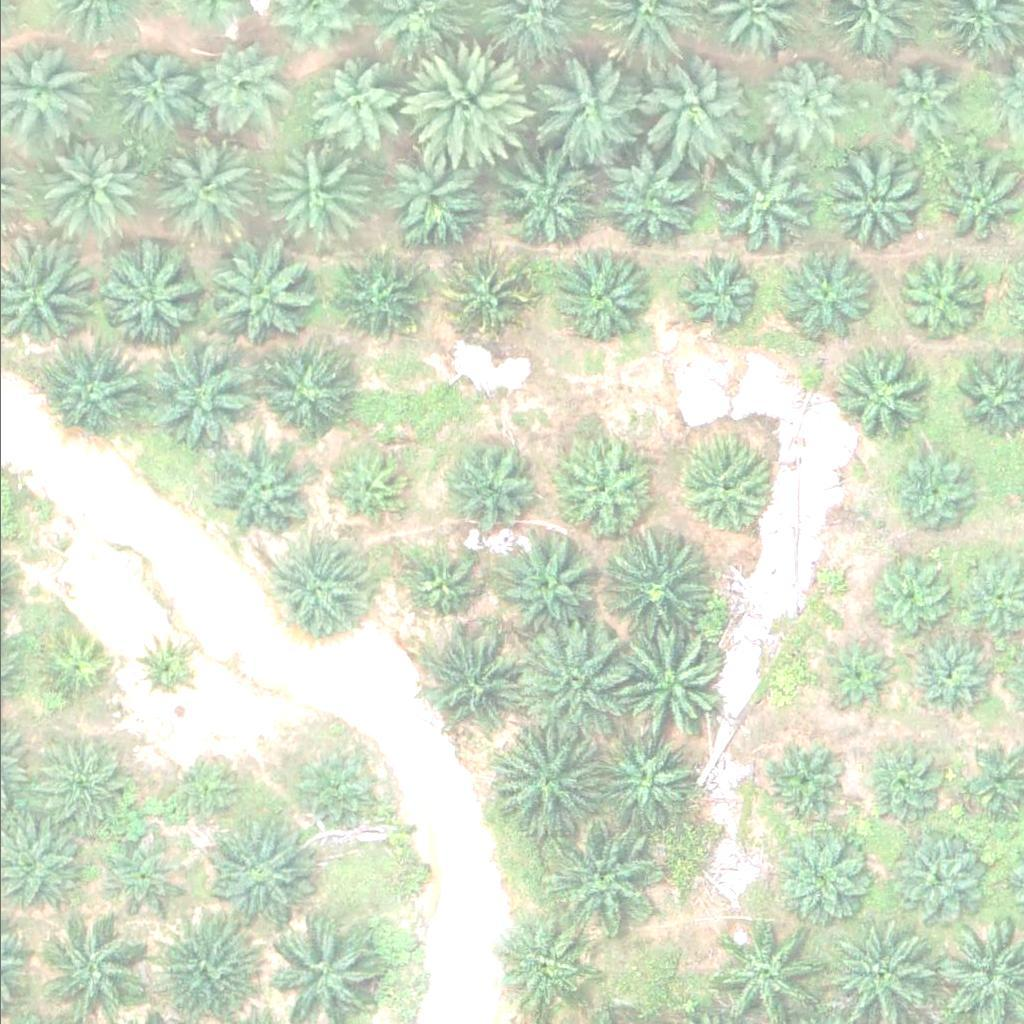Kelapa_Sawit: (401, 47, 527, 172), (489, 721, 603, 834), (535, 49, 649, 162), (199, 812, 312, 925), (148, 338, 261, 451), (204, 239, 317, 352), (93, 243, 206, 356), (594, 528, 707, 641), (705, 143, 818, 256), (630, 56, 743, 169), (819, 149, 933, 261), (144, 908, 257, 1020), (548, 821, 661, 933), (515, 629, 628, 741), (611, 628, 724, 740), (497, 529, 598, 629), (39, 337, 140, 437), (555, 249, 656, 349), (496, 156, 597, 256), (259, 142, 360, 242), (147, 137, 248, 237), (39, 133, 140, 233), (877, 827, 978, 927), (596, 728, 697, 828), (825, 344, 926, 444), (488, 917, 588, 1017), (423, 627, 523, 727), (263, 537, 363, 637), (30, 735, 130, 835), (555, 440, 655, 540), (210, 443, 310, 543), (590, 151, 690, 251), (390, 141, 490, 241), (772, 826, 872, 926), (670, 438, 770, 538), (770, 246, 870, 346), (96, 835, 184, 923), (288, 740, 376, 828), (450, 437, 538, 525), (255, 348, 343, 436), (444, 248, 532, 336), (192, 41, 280, 129), (755, 738, 843, 826), (888, 255, 976, 343), (675, 247, 763, 335), (104, 44, 193, 131), (336, 251, 424, 338), (312, 59, 400, 146), (886, 446, 974, 533), (869, 556, 957, 643), (909, 638, 997, 725), (865, 736, 953, 823), (861, 60, 949, 147), (756, 65, 844, 152), (824, 639, 900, 714), (331, 449, 407, 524), (406, 544, 481, 619), (170, 752, 245, 827), (32, 628, 107, 703), (131, 637, 194, 700)
